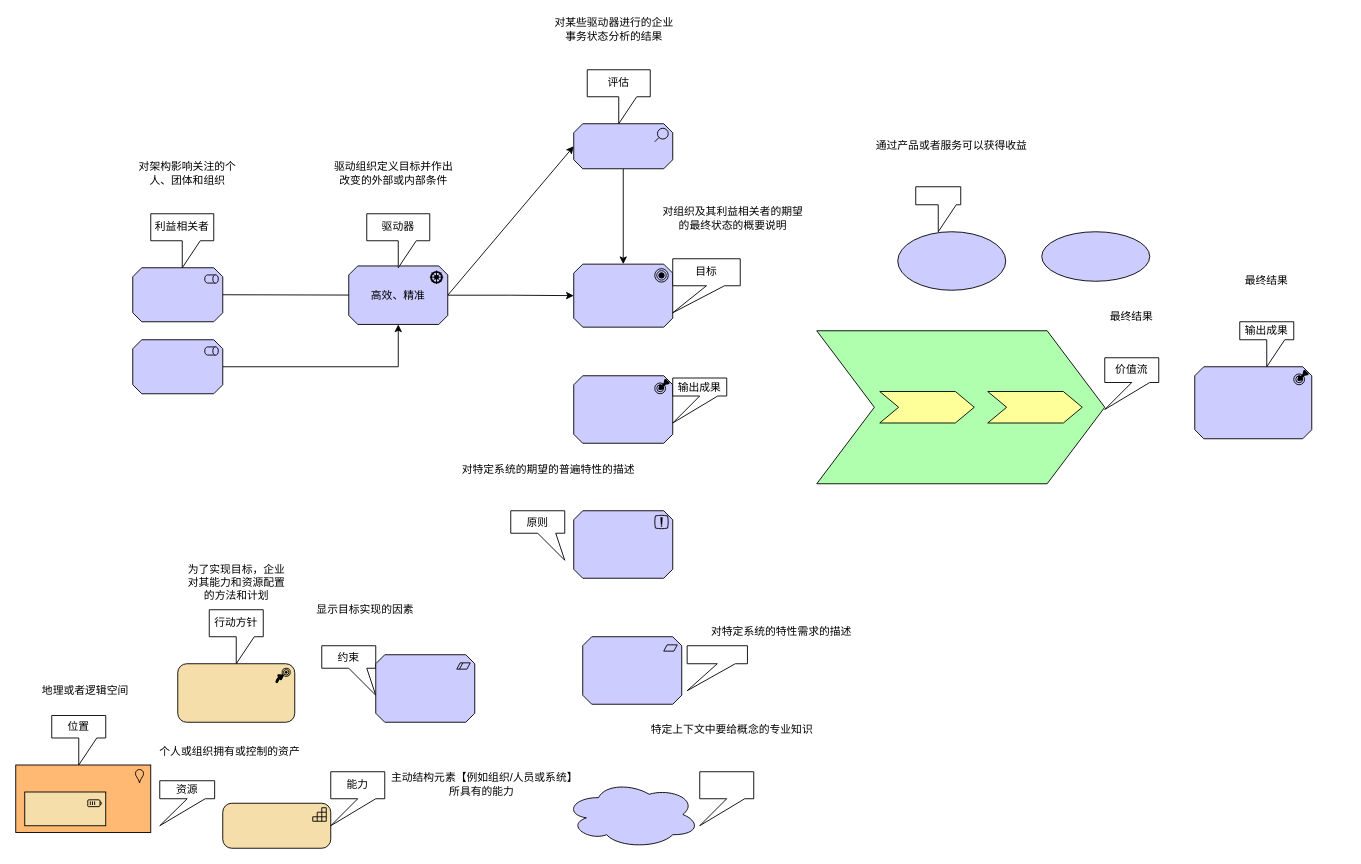
Image size: 1361x864. Some labels were removed from this diagram. Here are the shapes that lost their labels. From the top down, the centre of each, then its label:
At pixel 938 209: "价值".
At pixel 177 294: "客户".
At pixel 623 295: "在线协同".
At pixel 177 366: "劳动者".
At pixel 716 668: "需求".
At pixel 726 798: "含义".
